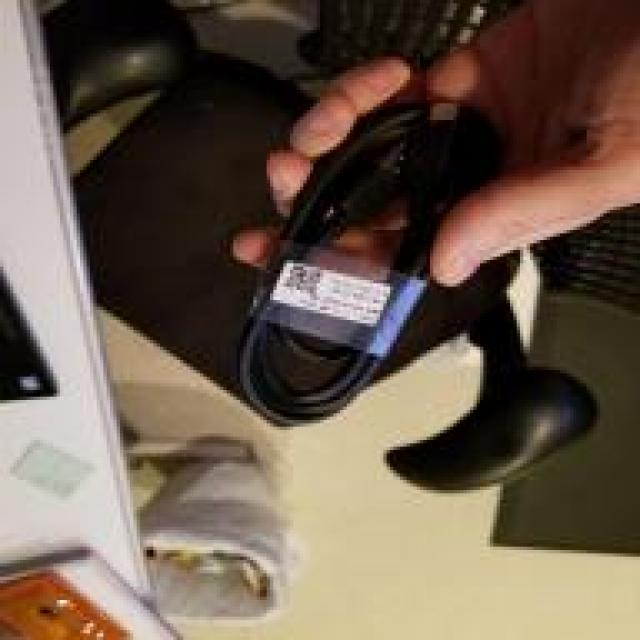QR_CODE: (275, 260, 327, 303)
